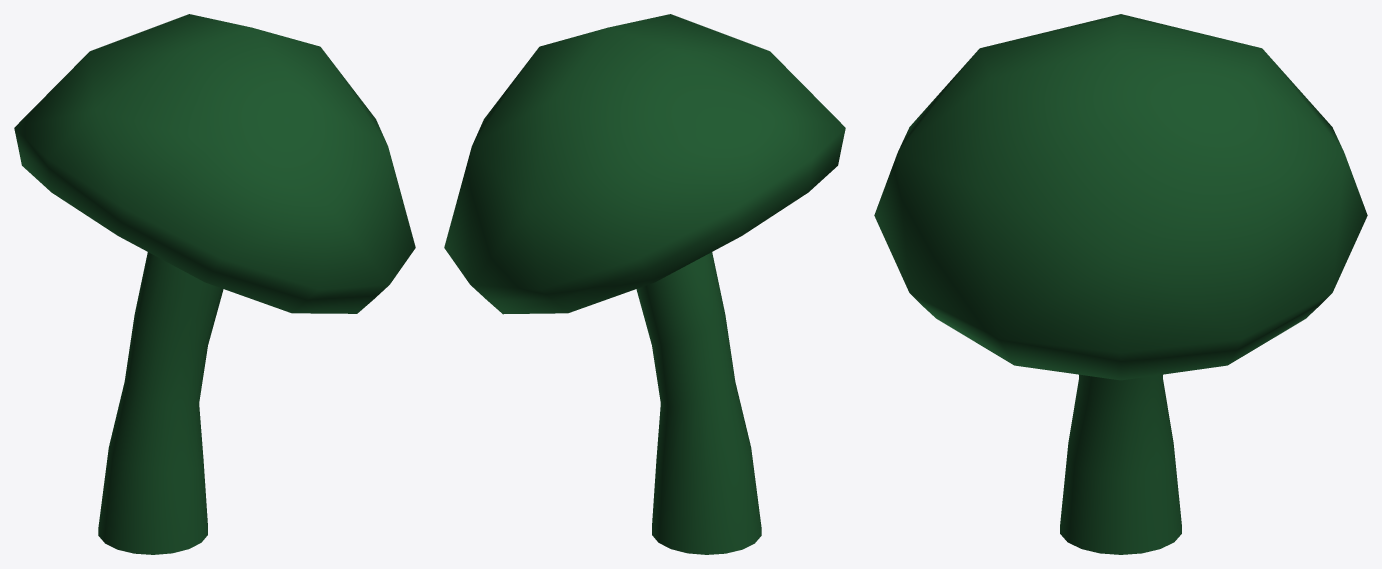
The model's file is Mushroom02.fbx.
3 views of the same model, side by side, from view 1: azimuth 30°, elevation 25°; view 2: azimuth 150°, elevation 25°; view 3: azimuth 270°, elevation 25° (orthographic). The views are drawn at different scales.
Visible parts, largest first — view 1: Mushroom_4; view 2: Mushroom_4; view 3: Mushroom_4.
Boxes of the visible parts, box(x1,y1,x2,y2) form: Mushroom_4: box(14, 14, 415, 554); Mushroom_4: box(444, 14, 845, 554); Mushroom_4: box(874, 14, 1367, 554).
Size of the model in its own units: 25.35 by 34.21 by 28.7.
